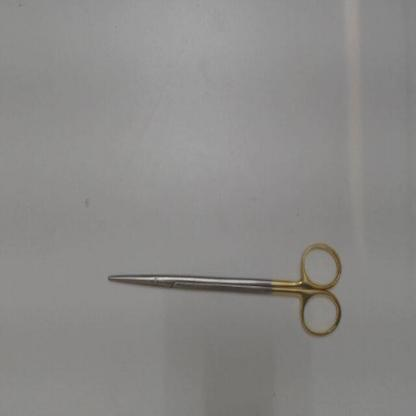7 Metzenbaum Scissors: (109, 239, 345, 341)
